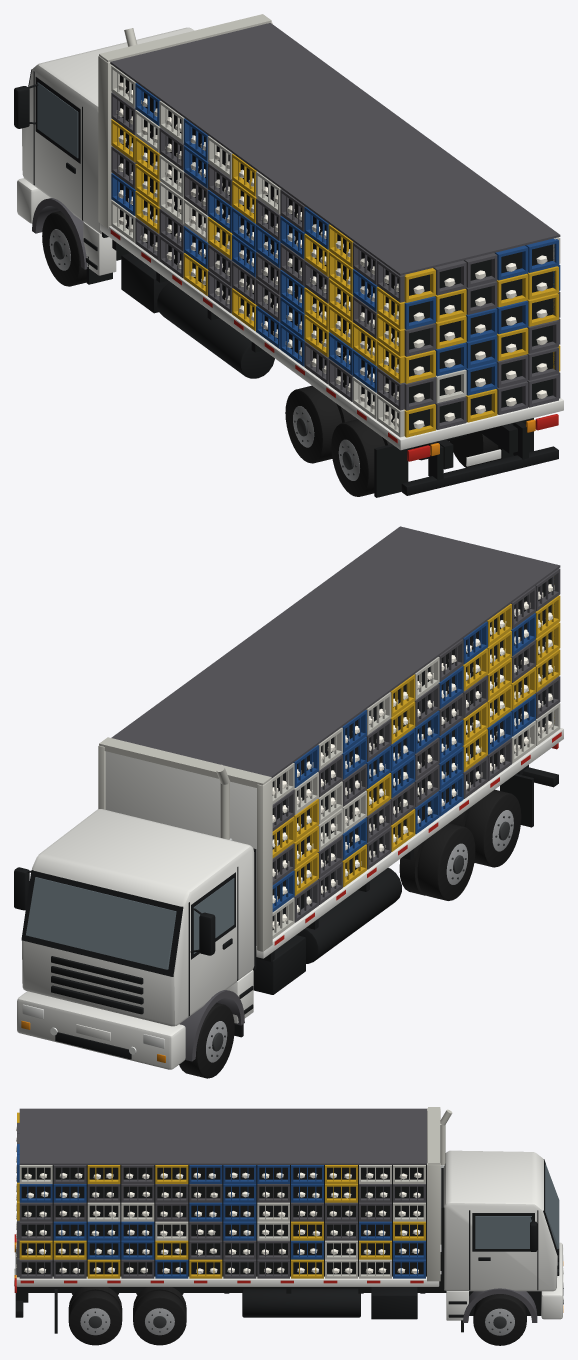
Rendered from caminhao-frango.glb.
3 renders of one model, top to bottom at view 1: azimuth 30°, elevation 25°; view 2: azimuth 150°, elevation 25°; view 3: azimuth 270°, elevation 25°, orthographic. The views are drawn at different scales.
Visible parts, largest first — view 1: corpo; view 2: corpo; view 3: corpo.
Part boxes in pixels (x1,y1,x2,y2): corpo: (14, 14, 563, 497); corpo: (14, 526, 563, 1078); corpo: (14, 1107, 563, 1345).
Bounding box in the file's own units: 3.12 × 4.15 × 10.67.
Materials: 1 (1 with a texture image).
